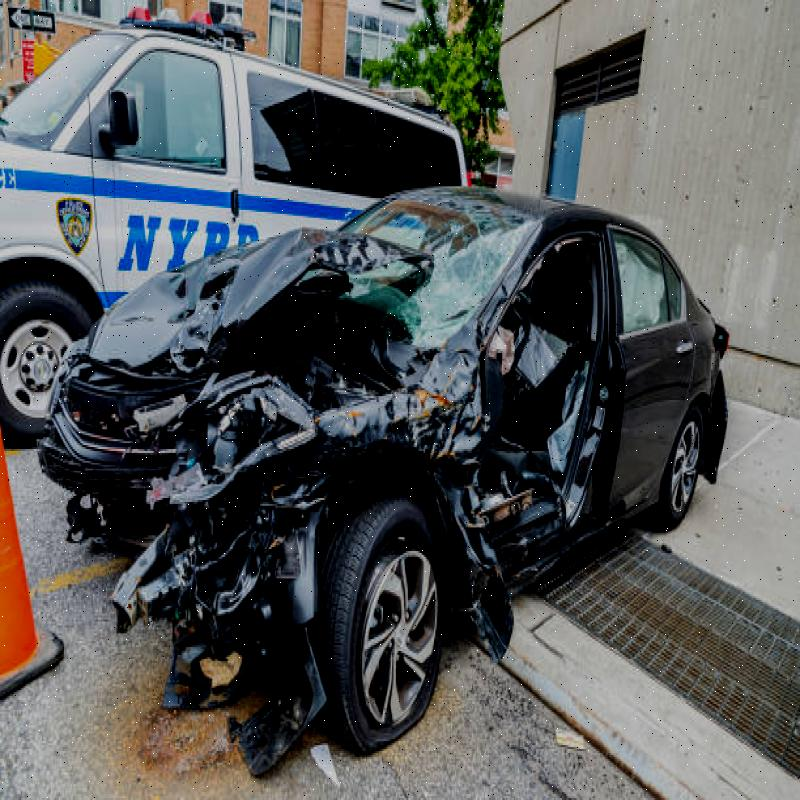AmbulanceSiren: (114, 0, 252, 63)
